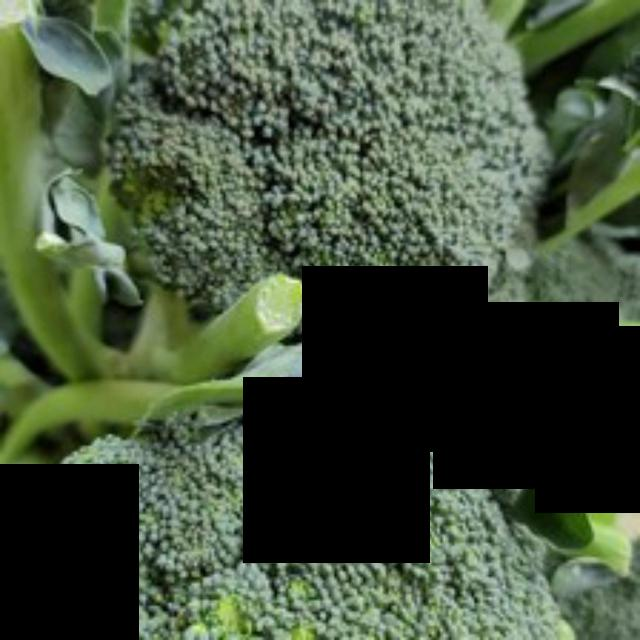broccoli: (76, 0, 546, 393)
